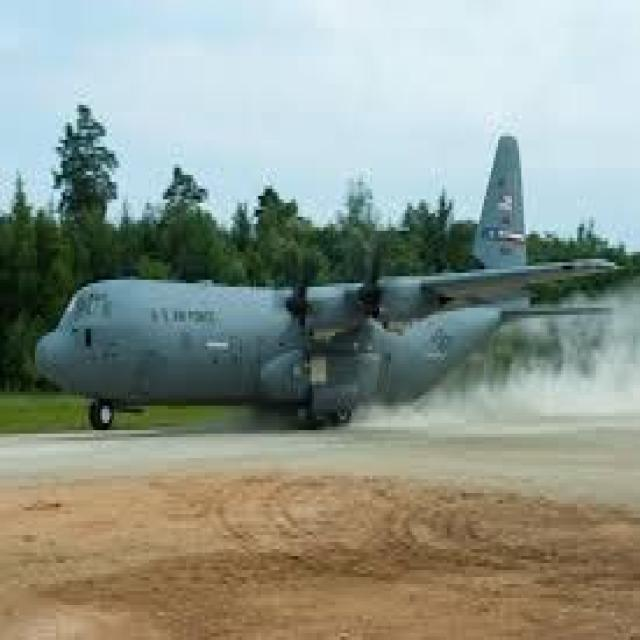C130: (22, 125, 640, 478)
